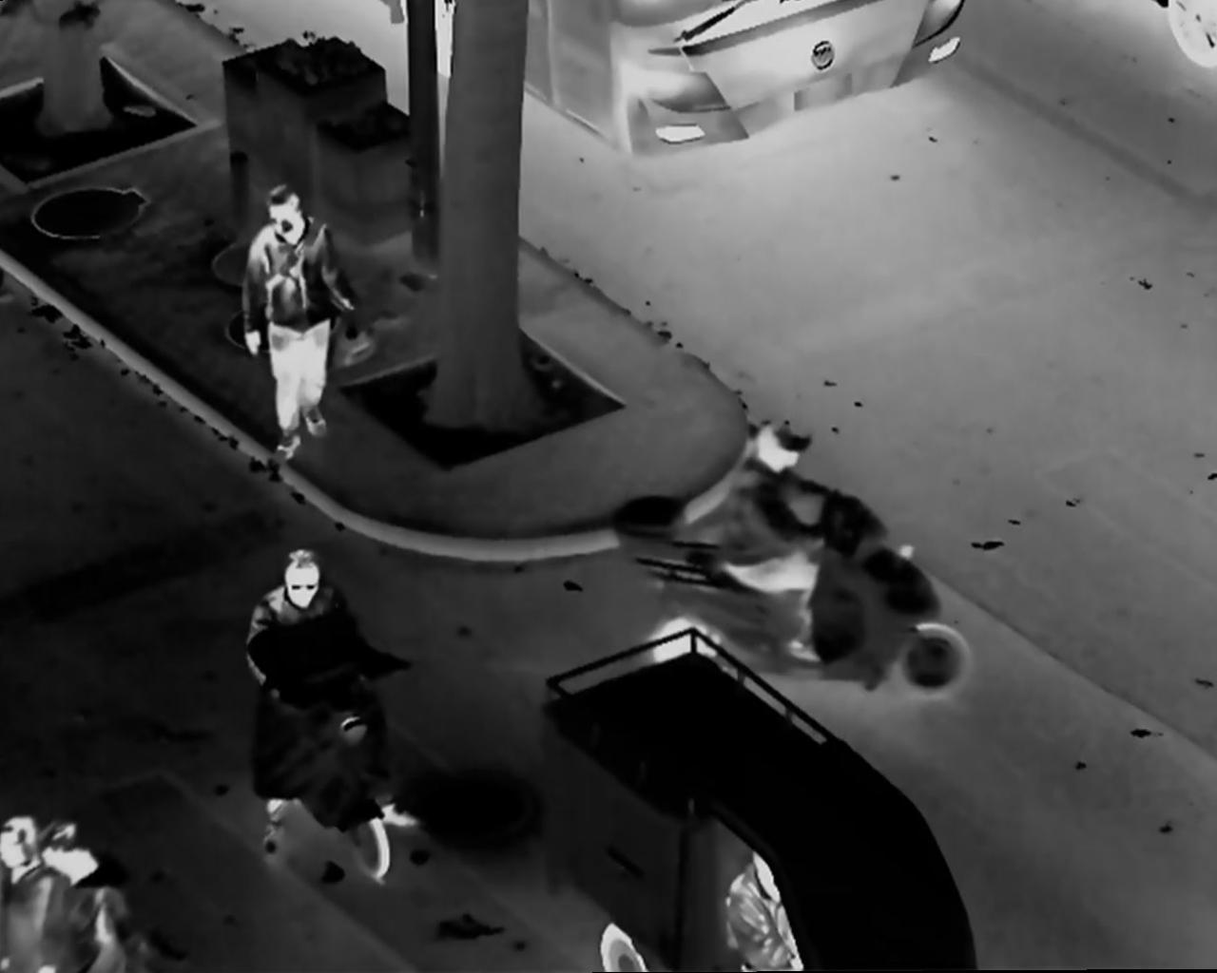person: (237, 544, 429, 861), (724, 414, 880, 667), (234, 179, 364, 455), (43, 821, 145, 973), (723, 846, 815, 973)
